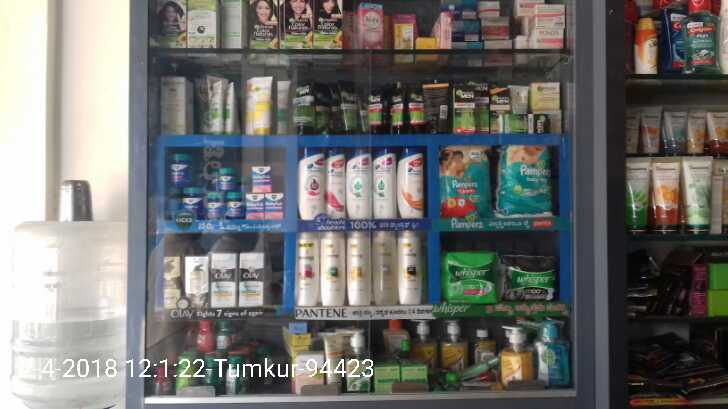vicks: (168, 154, 243, 219), (243, 163, 283, 220)
